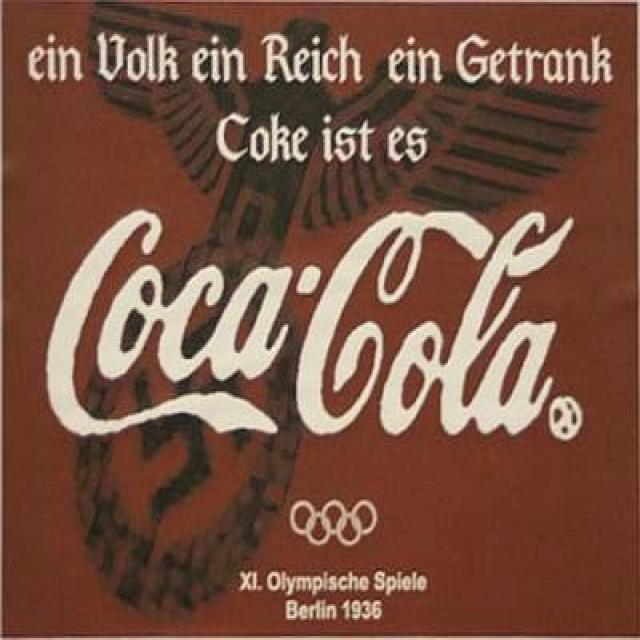coca cola: (39, 196, 592, 460)
